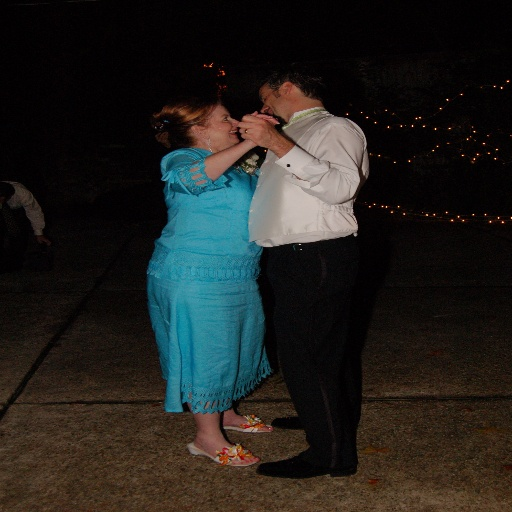hand: (235, 114, 284, 147), (246, 110, 281, 145), (36, 236, 52, 246)
